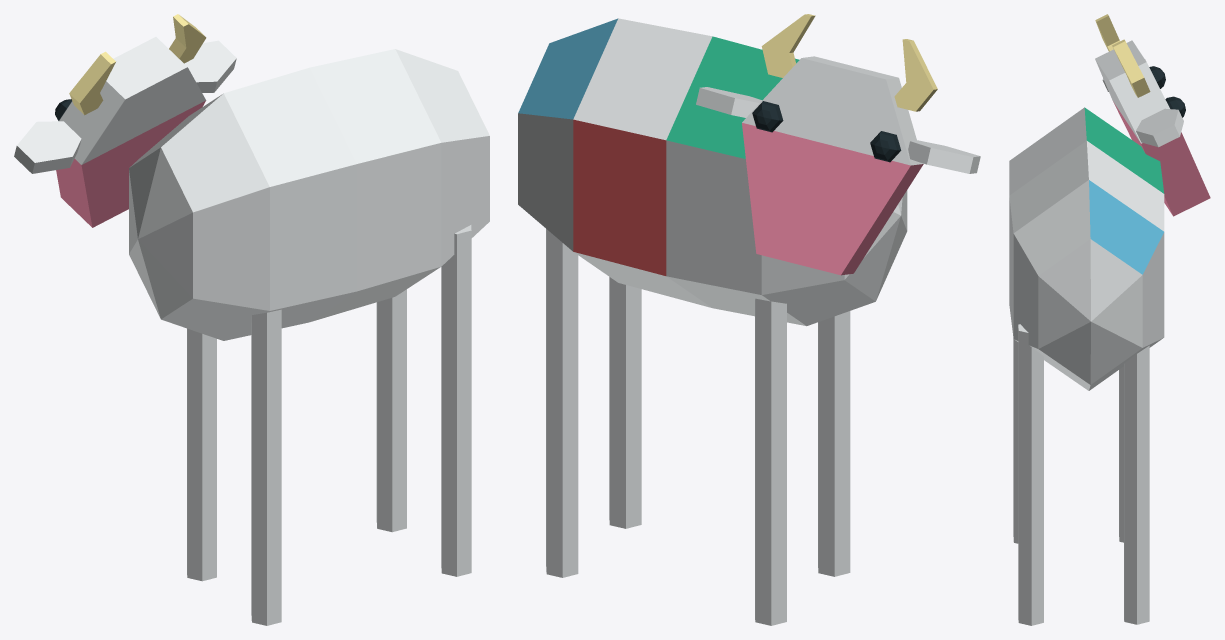
The model's file is TallCow_mesh.fbx.
3 renders of one model, left to right at view 1: azimuth 30°, elevation 25°; view 2: azimuth 150°, elevation 25°; view 3: azimuth 270°, elevation 25°, orthographic. The views are drawn at different scales.
Visible parts, largest first — view 1: pCylinder38; view 2: pCylinder38; view 3: pCylinder38.
Part boxes in pixels (bbox=[...]): pCylinder38: bbox=[14, 14, 489, 625]; pCylinder38: bbox=[518, 14, 980, 625]; pCylinder38: bbox=[1009, 14, 1210, 625].
Bounding box in the file's own units: 4.34 × 5.33 × 2.
